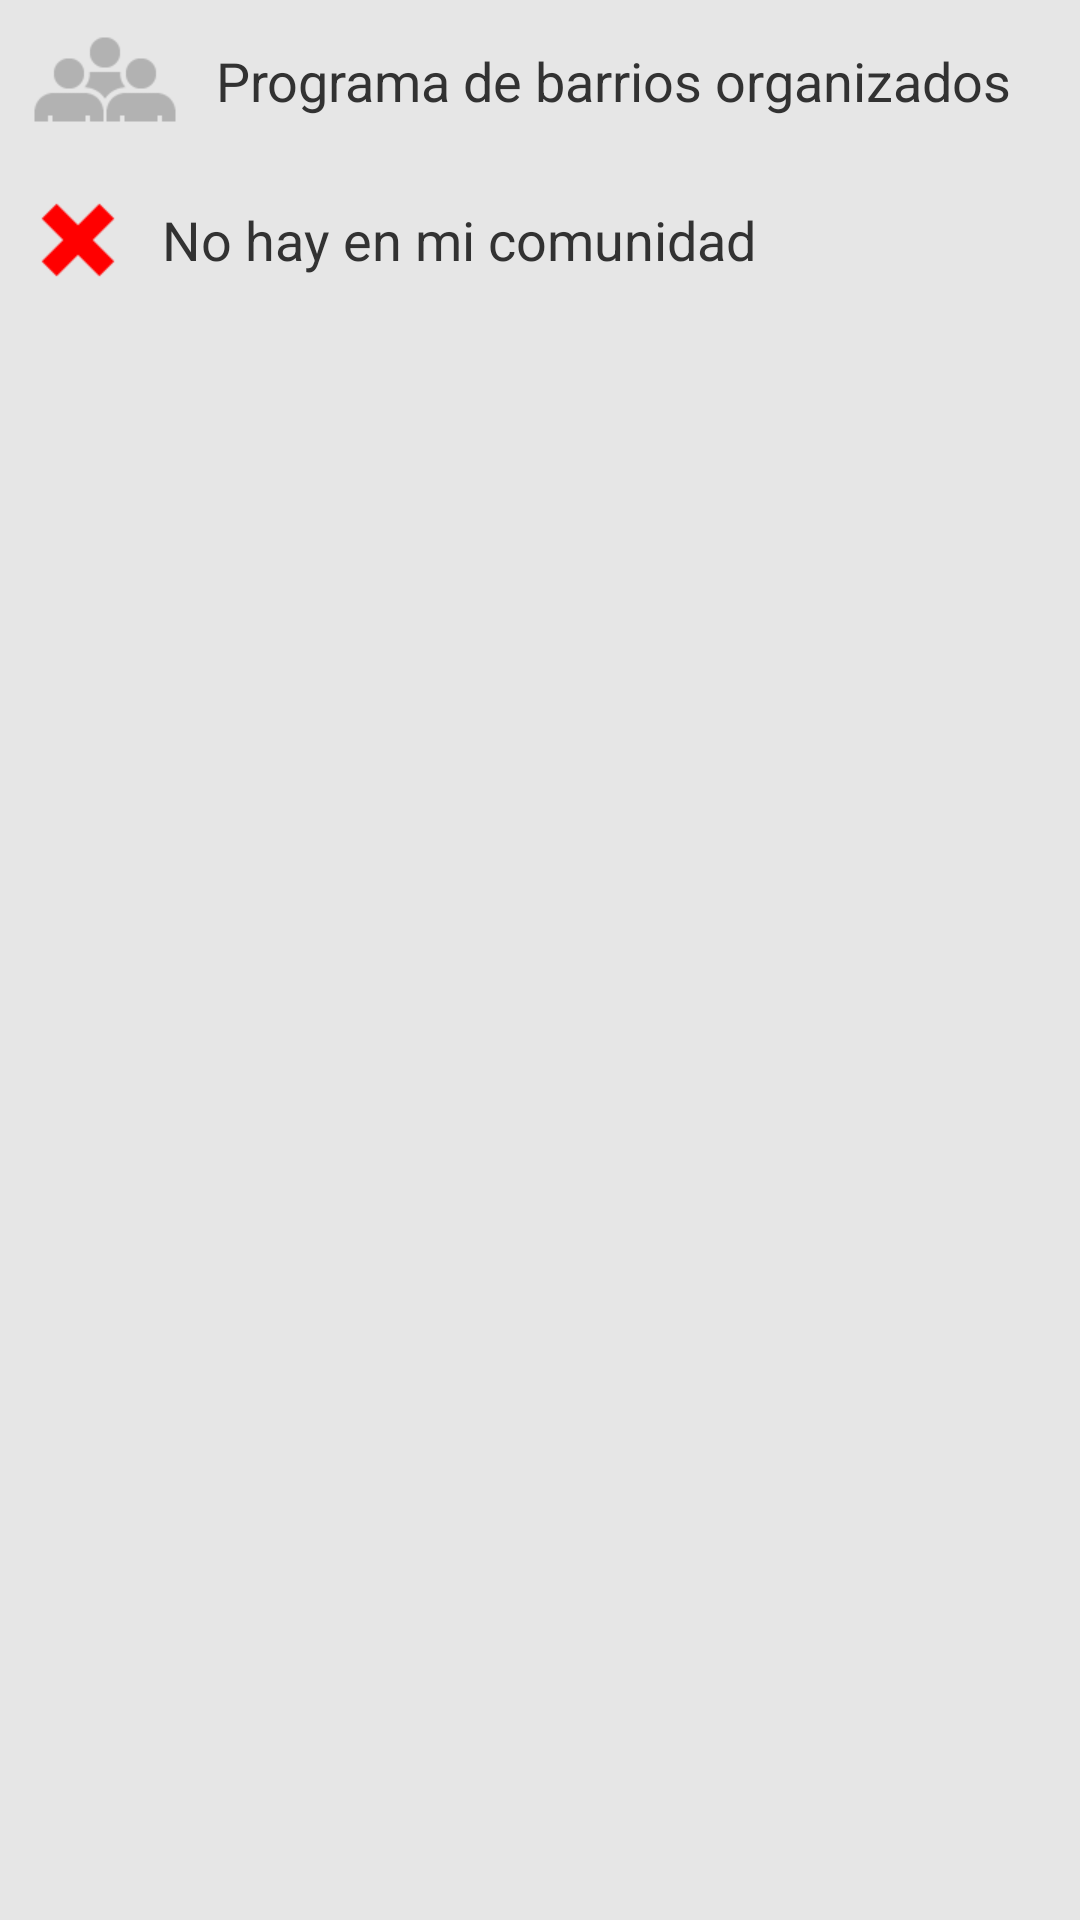

Locate icon controls on the screen. Image size 1080px×1920px, boxes as (x1, y1, x2, y2).
cancel: (41, 203, 115, 277)
community: (34, 37, 176, 122)
